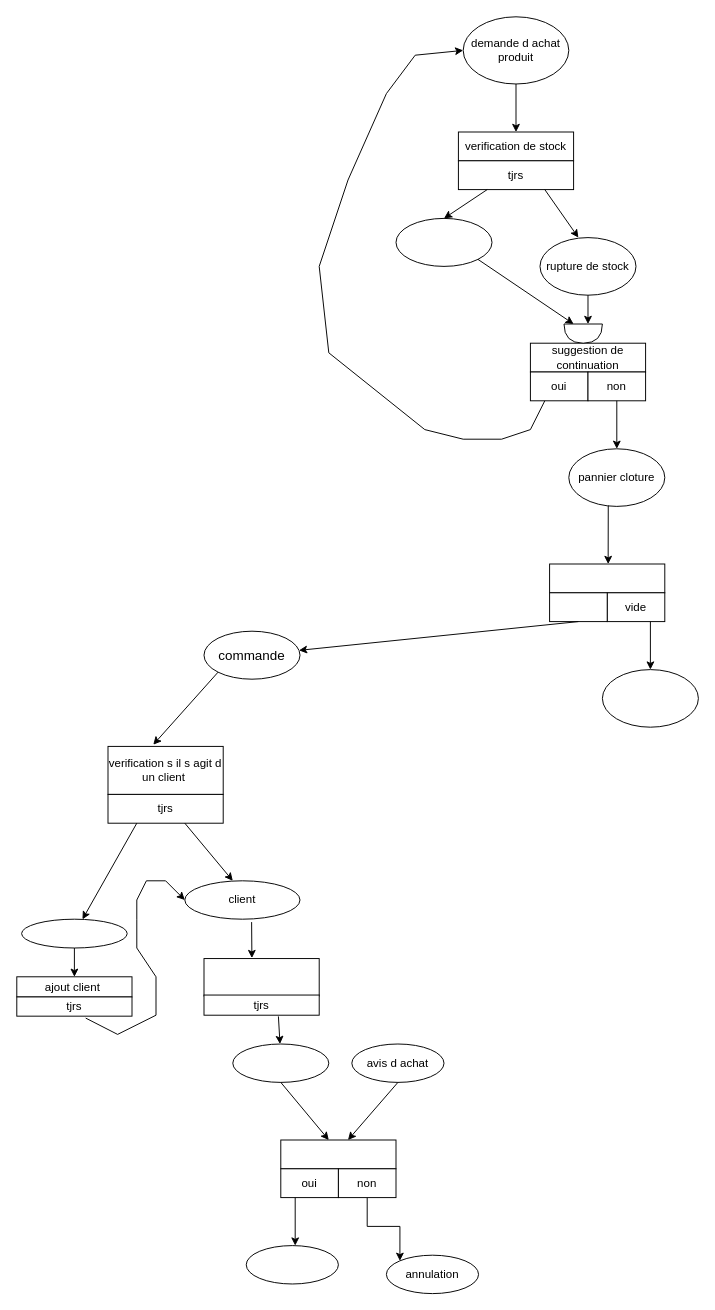
This 715x1310 diagram has some shape labels left out. The shapes that lost their labels are listed below. From the top down, each one's centre as x and y in pixels, then its label:
(443,241): produit ajouter au panier
(582,333): ou
(607,578): verification du panier
(578,607): plein
(649,698): cloture
(74,933): non-client
(261,977): ajout adresse de livraison
(280,1062): devis
(338,1154): confirmation
(291,1264): facture
